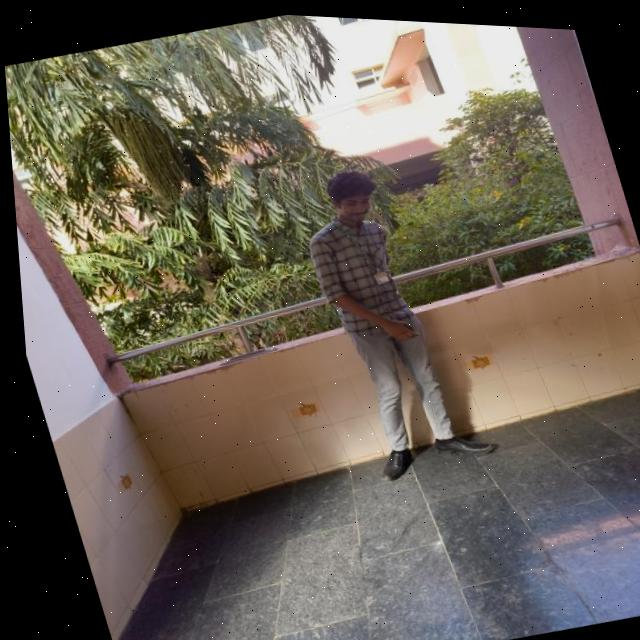id_card: (352, 228, 388, 283)
